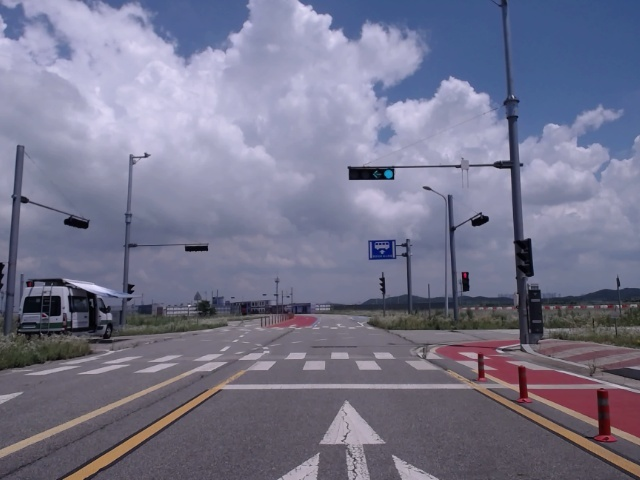all_green_4: (345, 164, 395, 179)
